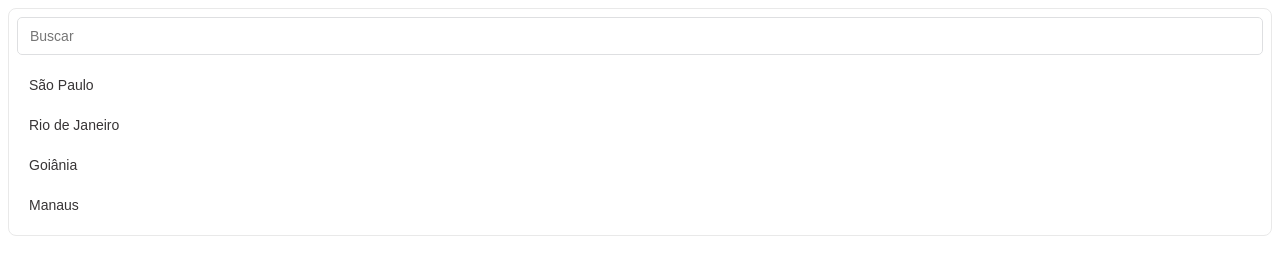
Test case: List › anuncia a lista vazia
Type "curitiba" into the search field at point(640, 36), box [17,17,1263,55]
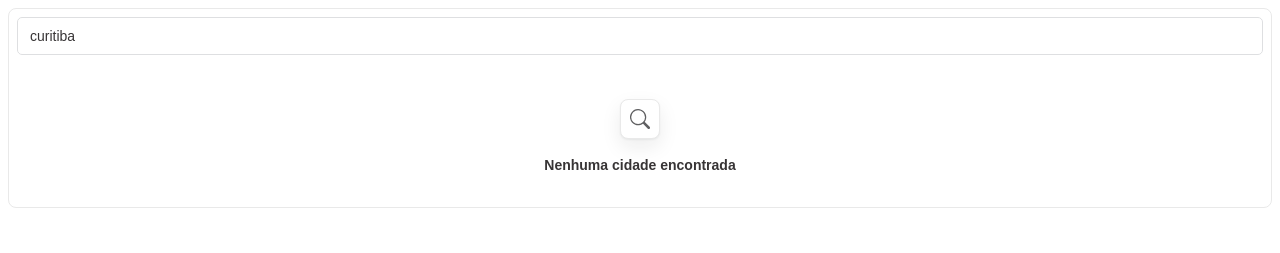
Check: the text "Nenhuma cidade encontrada" is shown, box [544,155,736,175]
